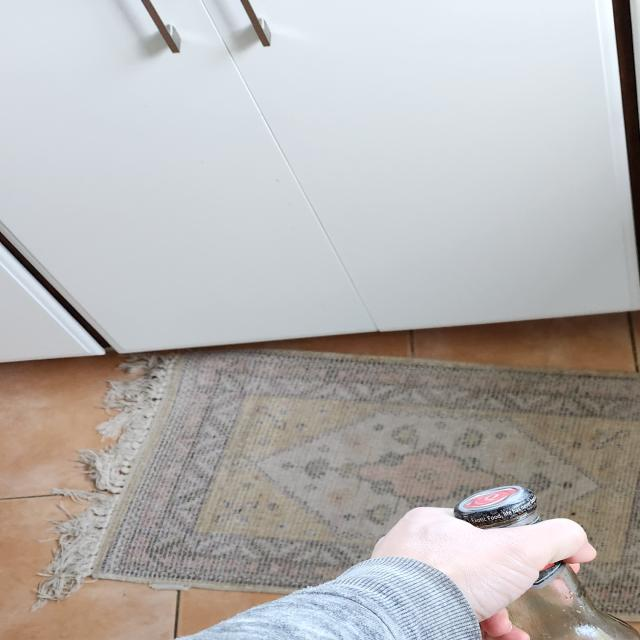sweet chili sauce: (456, 485, 640, 640)
